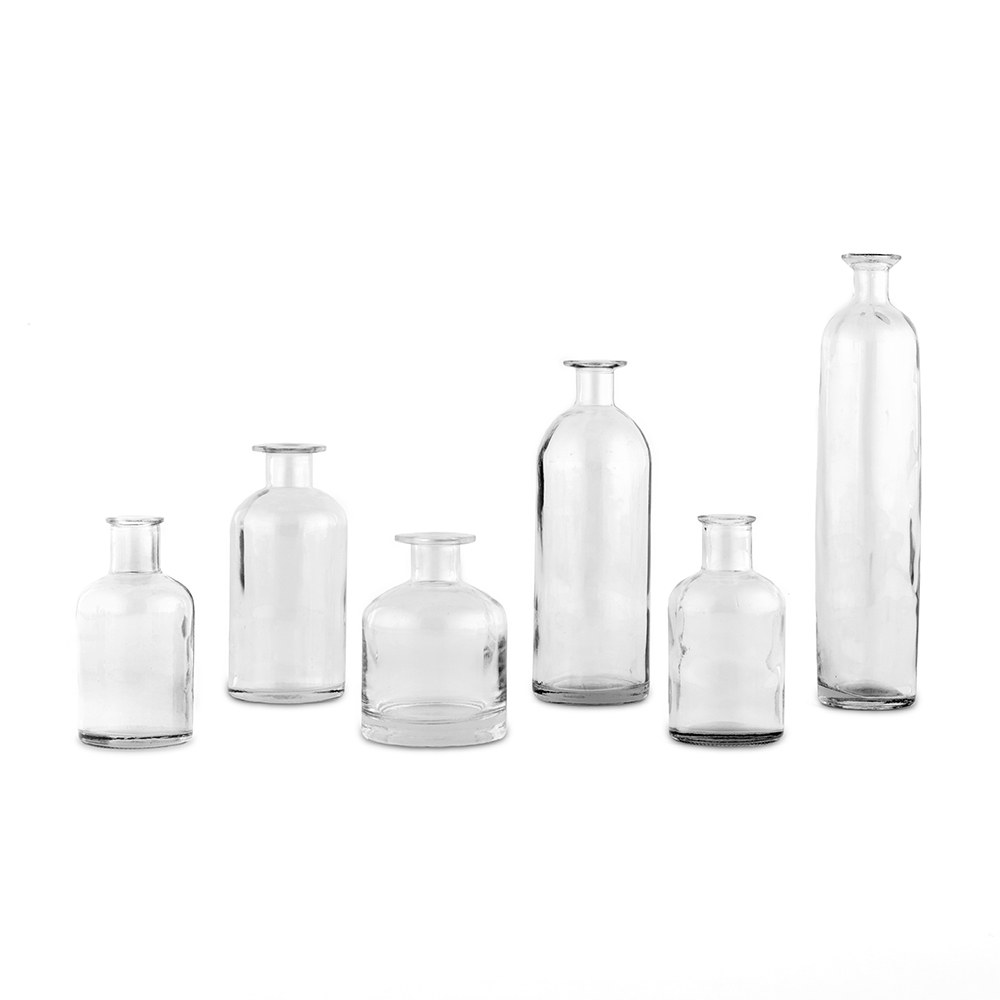glass_bottle: (809, 248, 926, 719), (525, 351, 657, 710), (219, 435, 355, 711), (356, 524, 515, 754), (68, 509, 204, 754), (660, 511, 790, 751)
